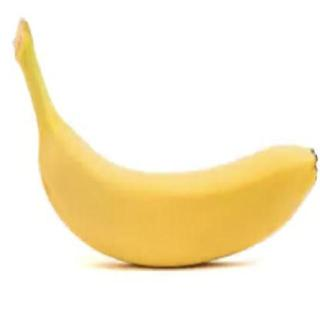banana: (37, 127, 319, 270)
